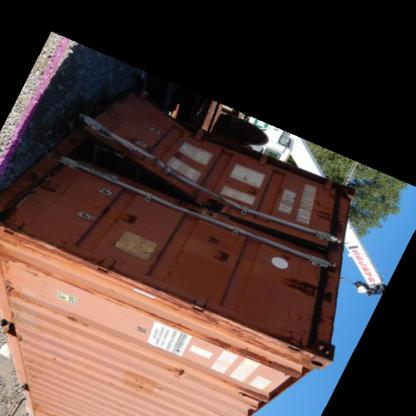Damage: (60, 116, 247, 233), (197, 316, 321, 366), (282, 266, 344, 307), (312, 188, 352, 237), (155, 361, 195, 381), (65, 306, 100, 328), (210, 244, 238, 269)
